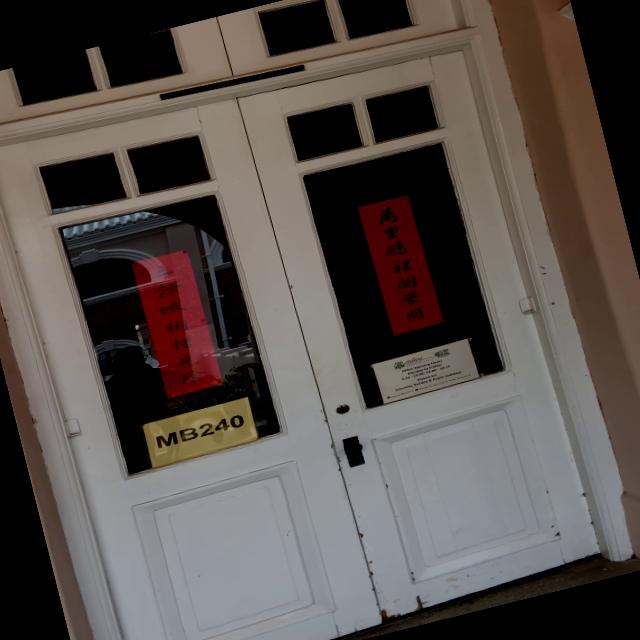room240: (144, 400, 257, 462)
